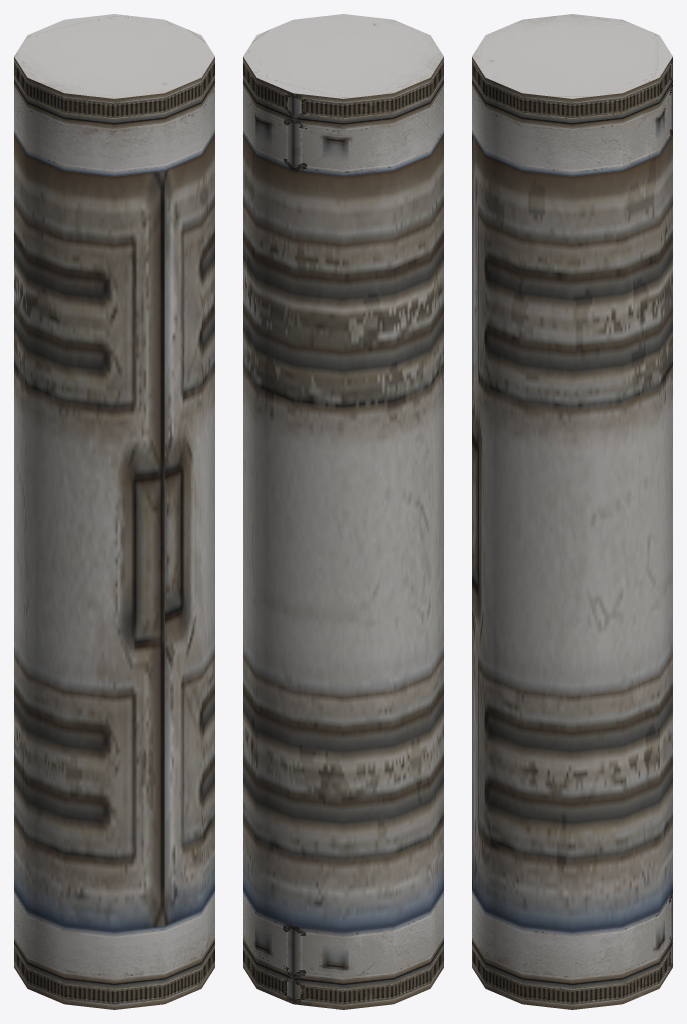
File: scifi_pipe_medium_1.FBX
3 renders of one model, left to right at view 1: azimuth 30°, elevation 25°; view 2: azimuth 150°, elevation 25°; view 3: azimuth 270°, elevation 25°, orthographic.
Parts seen in each view (by area): view 1: Cylinder016; view 2: Cylinder016; view 3: Cylinder016.
Part boxes in pixels (box(x1,y1,x2,y2)): Cylinder016: box(14, 14, 214, 1009); Cylinder016: box(243, 14, 443, 1009); Cylinder016: box(472, 14, 672, 1009).
Bounding box in the file's own units: 50.8 × 254 × 50.8.
